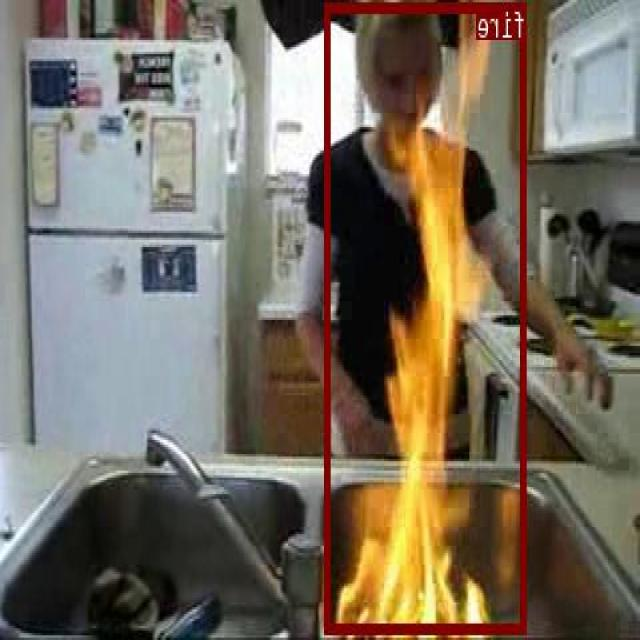fire: (326, 1, 528, 632)
